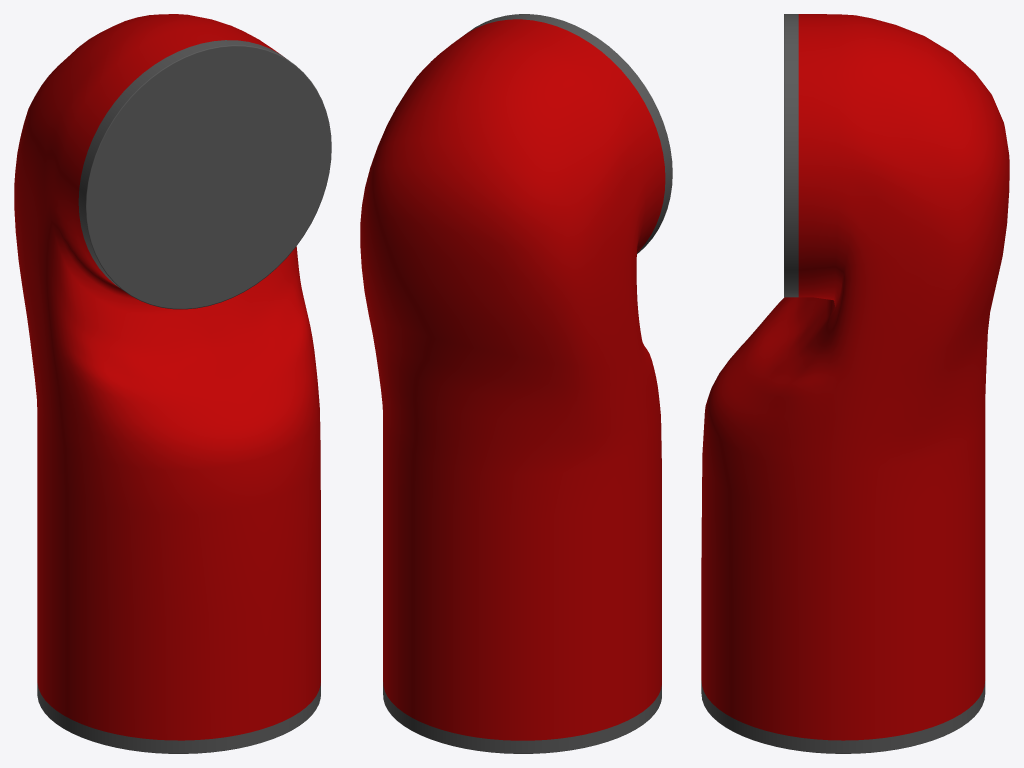
3 views of the same model, side by side, from view 1: azimuth 30°, elevation 25°; view 2: azimuth 150°, elevation 25°; view 3: azimuth 270°, elevation 25° (orthographic).
Parts seen in each view (by area): view 1: Link03; view 2: Link03; view 3: Link03.
Part boxes in pixels (x1,y1,x2,y2): Link03: (14,14,331,753); Link03: (360,14,672,753); Link03: (701,14,1009,753).
Size of the model in its own units: 0.0956 by 0.1037 by 0.2478.
